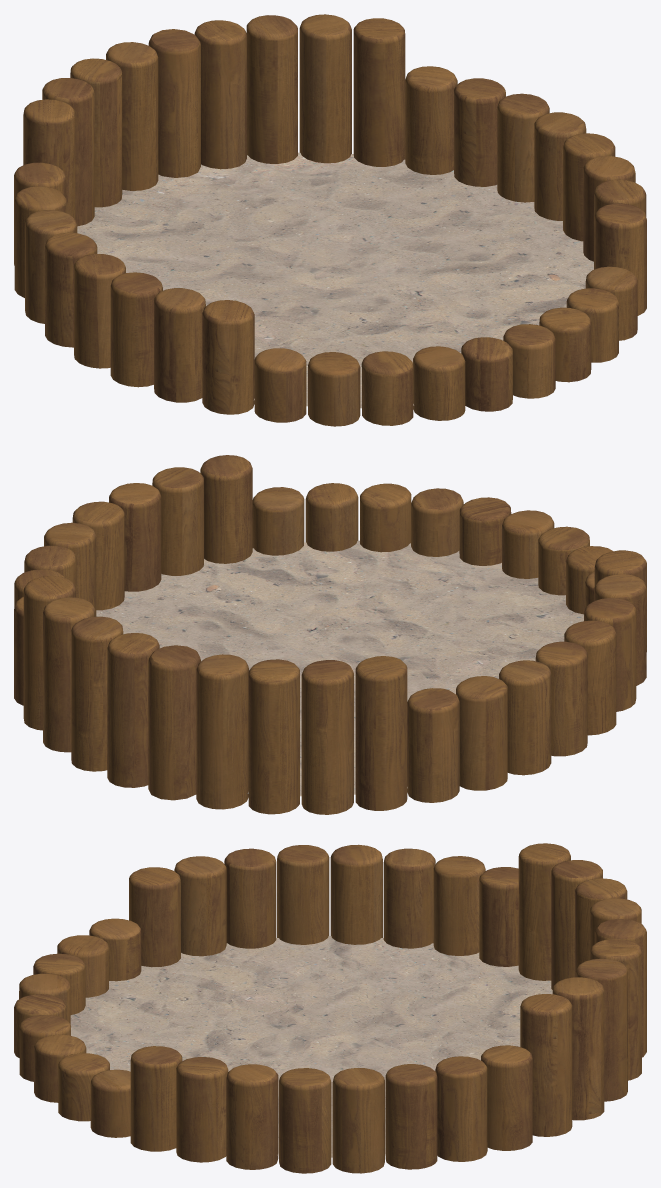
File: pesok.glb
The picture shows the model from 3 angles, top to bottom: view 1: azimuth 30°, elevation 25°; view 2: azimuth 150°, elevation 25°; view 3: azimuth 270°, elevation 25°; orthographic projection. The views are drawn at different scales.
Visible parts, largest first — view 1: размер, Cylinder001; view 2: размер, Cylinder001; view 3: размер, Cylinder001.
Boxes of the visible parts, bbox=[...] form: размер: bbox=[14, 14, 646, 426]; Cylinder001: bbox=[77, 152, 593, 408]; размер: bbox=[14, 455, 646, 814]; Cylinder001: bbox=[96, 540, 583, 796]; размер: bbox=[14, 843, 646, 1173]; Cylinder001: bbox=[70, 936, 552, 1157].
Bounding box in the file's own units: 2 × 0.479 × 2.2.
2 materials, 2 textured.
